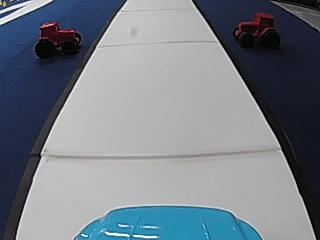tractor: (32, 18, 83, 58), (231, 10, 280, 50)
